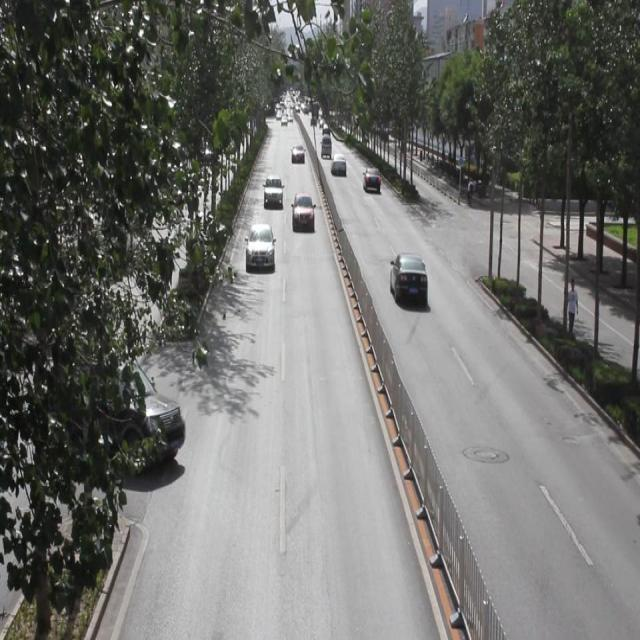car: (49, 342, 182, 473), (390, 252, 426, 302), (246, 223, 275, 269), (292, 192, 315, 231), (264, 173, 284, 209), (362, 163, 382, 195), (331, 153, 345, 175), (290, 142, 304, 163)
truck: (320, 132, 331, 158)
